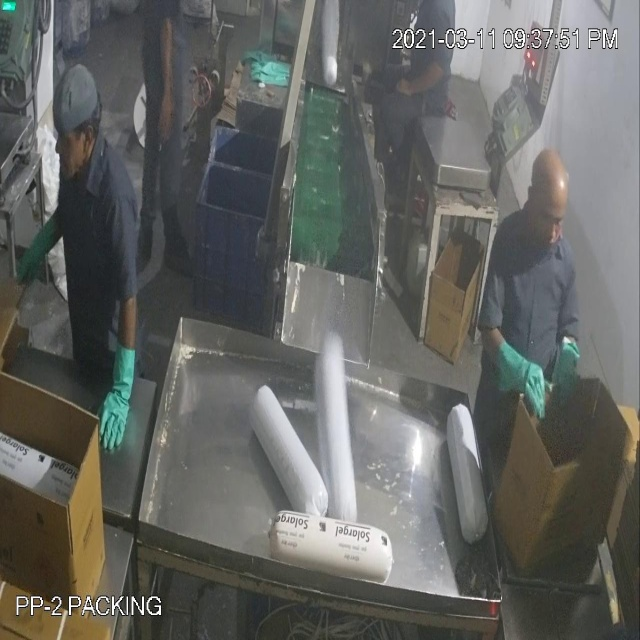Guantes: (88, 340, 151, 465), (500, 334, 548, 425), (553, 333, 582, 419)
Sin_guantes: (148, 10, 180, 144), (393, 60, 448, 108)
